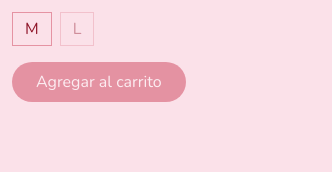
Test: VariantSelector › shows a temporary confirmation and disables the button to prevent an accidental double-add
Step 1. Click the button "M" → (32, 29), box [12, 12, 52, 46]
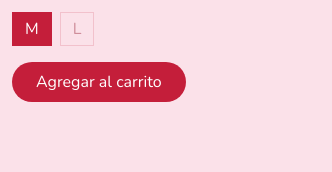
Step 2. Click the button "Agregar al carrito" → (99, 82), box [12, 62, 186, 102]
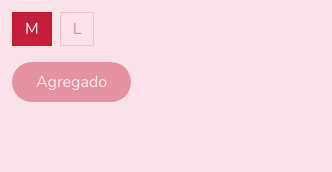
expect the button "Agregado" is disabled: met
Step 3. Click the button "Agregado" → (72, 82), box [12, 62, 131, 102]
Wait 400 ms
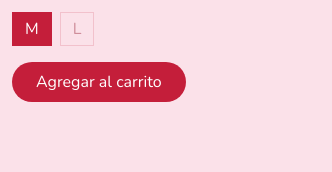
expect the button "Agregar al carrito" is enabled: met, box [12, 62, 186, 102]
